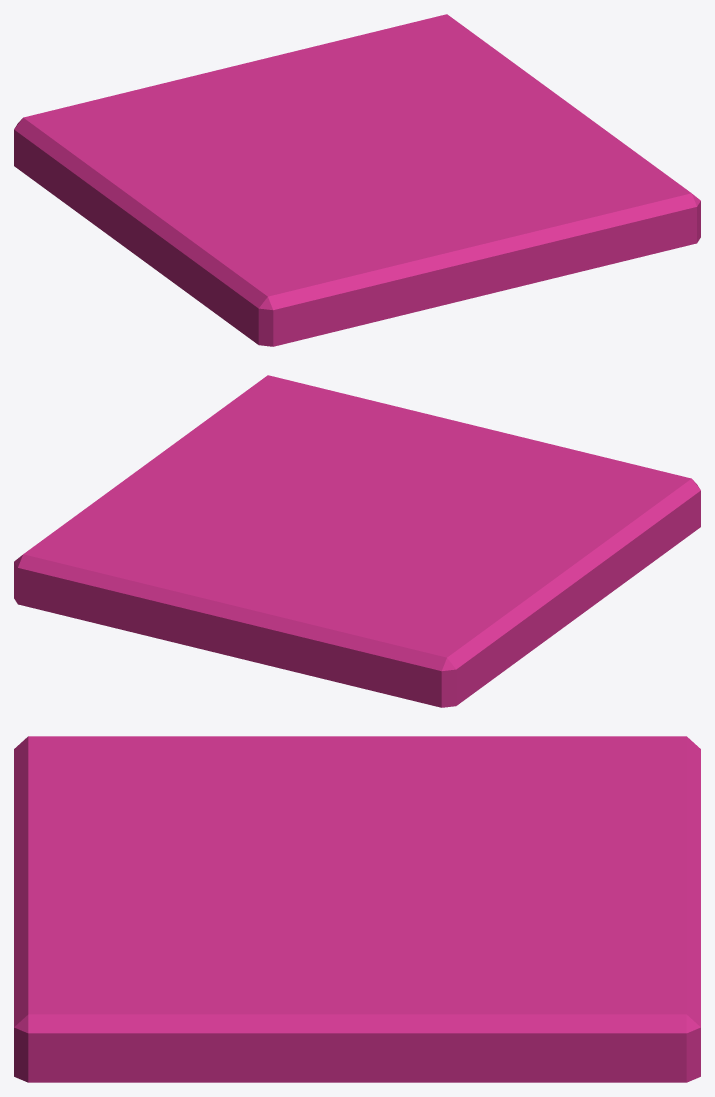
Rendered from Home_2.fbx.
The picture shows the model from 3 angles, top to bottom: view 1: azimuth 30°, elevation 25°; view 2: azimuth 150°, elevation 25°; view 3: azimuth 270°, elevation 25°; orthographic projection. The views are drawn at different scales.
Parts seen in each view (by area): view 1: Home_2; view 2: Home_2; view 3: Home_2.
Part boxes in pixels (x1=…): Home_2: x1=14, y1=14, x2=700, y2=346; Home_2: x1=14, y1=375, x2=700, y2=707; Home_2: x1=14, y1=736, x2=700, y2=1082.
Bounding box in the file's own units: 20 × 2 × 20.
